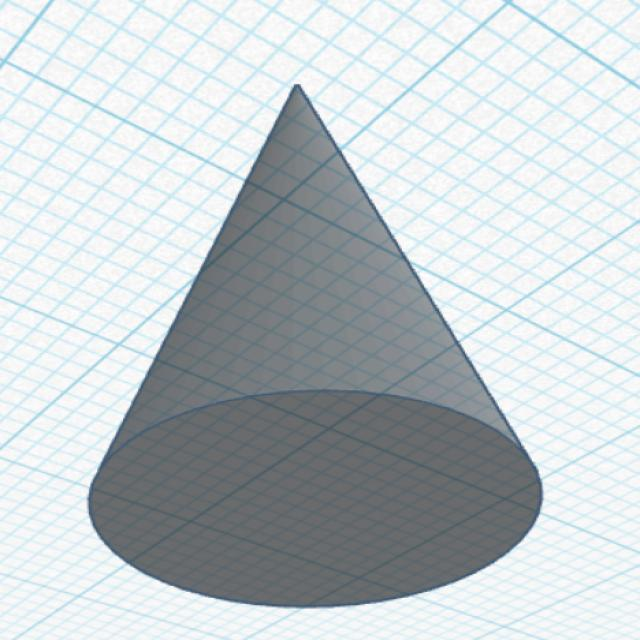cone: (84, 80, 548, 612)
